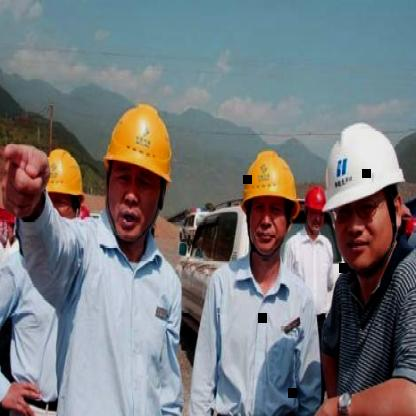helmet: (316, 116, 412, 217), (102, 99, 177, 186), (236, 140, 301, 221)
